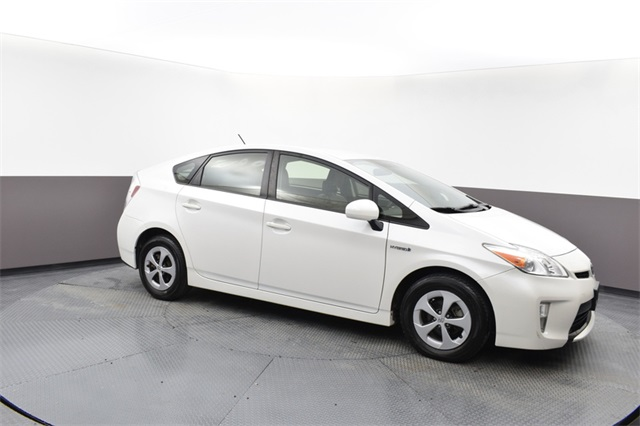Toyota Prius: (112, 137, 604, 366)
